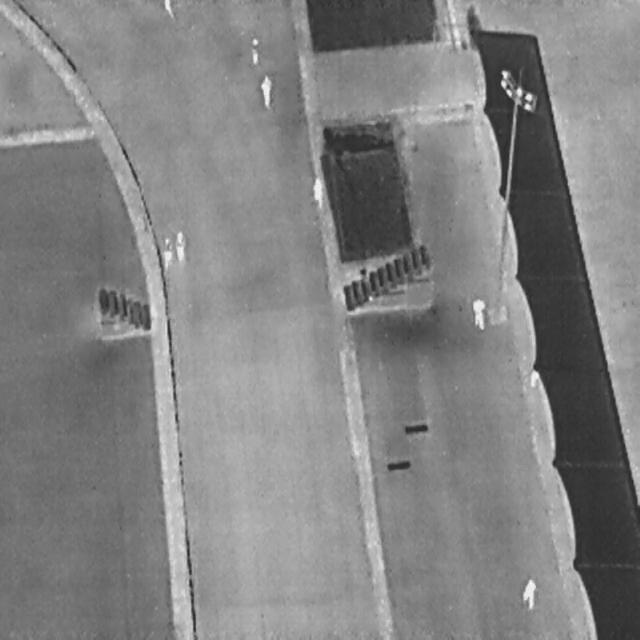Person: (469, 294, 487, 331), (520, 576, 537, 609), (258, 72, 273, 108), (310, 174, 325, 208), (173, 226, 186, 264), (160, 235, 173, 273), (248, 34, 260, 66), (160, 0, 174, 19)
